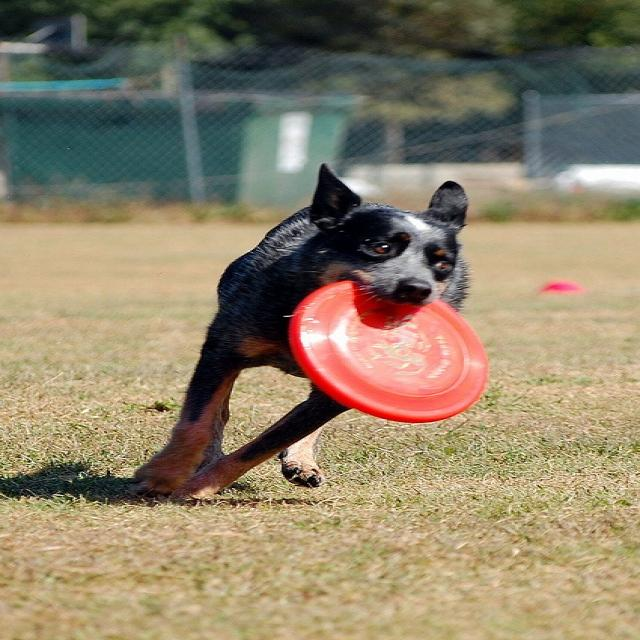dog: (119, 163, 488, 505)
